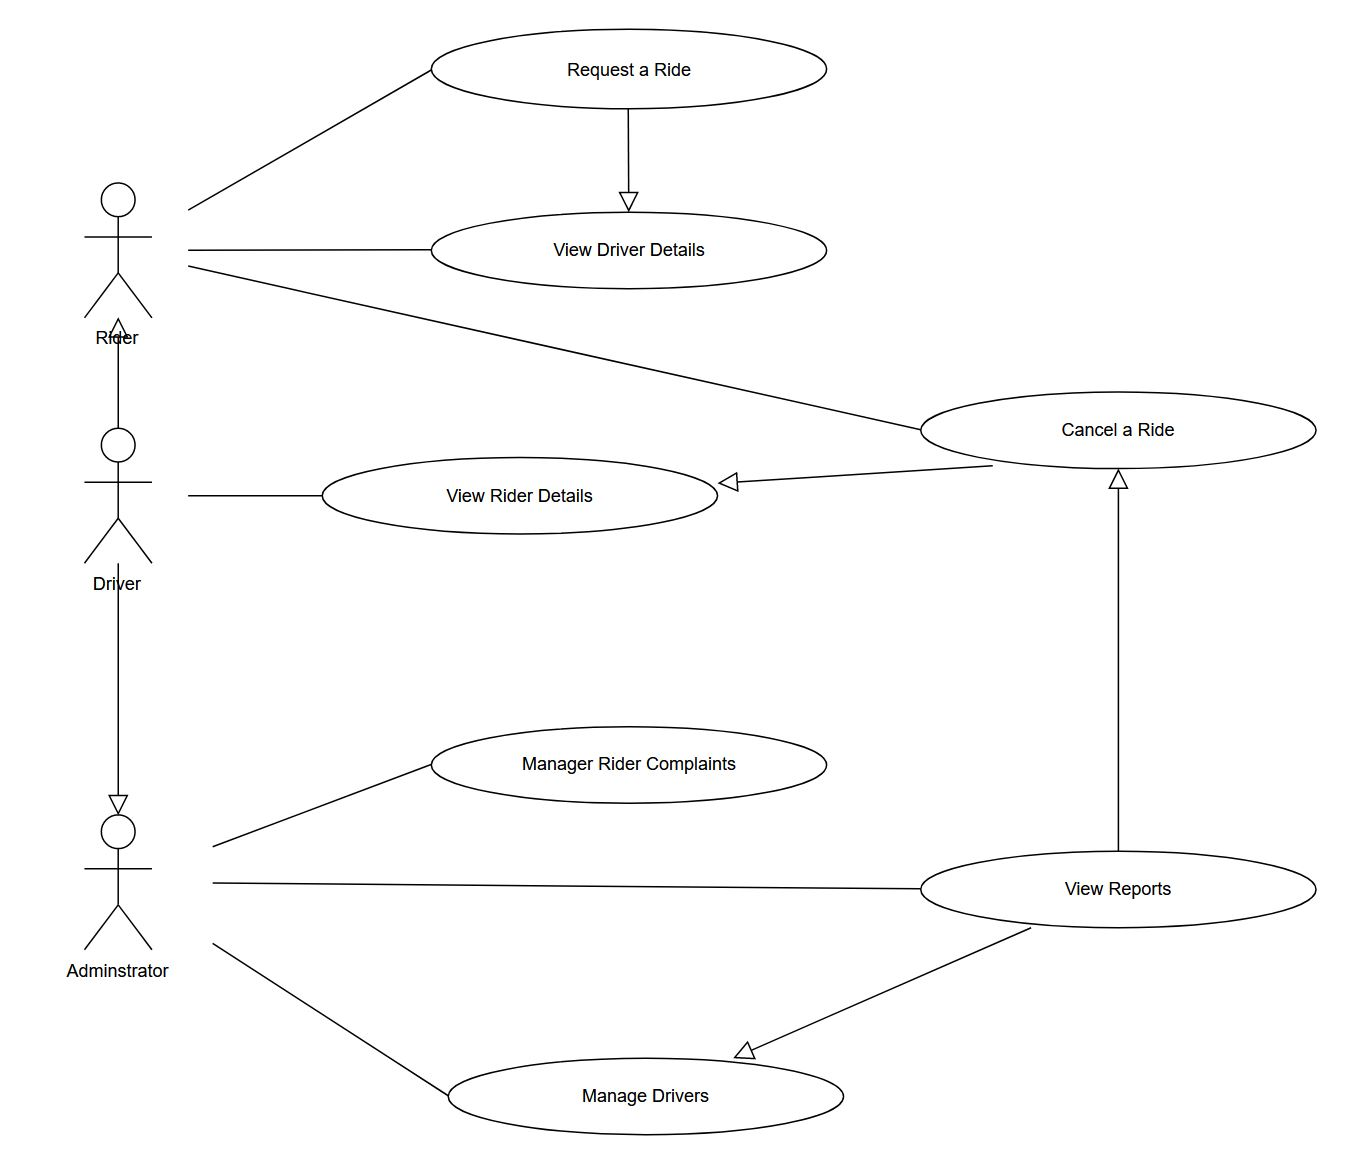actor: (76, 813, 166, 954), (78, 425, 163, 564), (78, 180, 155, 321)
association: (184, 260, 922, 431), (208, 937, 452, 1101), (184, 67, 429, 209), (209, 866, 923, 901), (211, 761, 427, 848), (185, 235, 432, 261), (186, 479, 324, 510)
generalization: (734, 924, 1032, 1061), (1102, 468, 1134, 849), (718, 461, 1000, 493), (102, 562, 134, 813), (608, 111, 645, 209), (106, 319, 132, 425)
text: (514, 744, 745, 783), (1047, 415, 1203, 452), (547, 232, 713, 264), (557, 52, 710, 87), (432, 479, 595, 510), (570, 1082, 729, 1112), (61, 957, 183, 984), (1057, 872, 1175, 900), (88, 571, 145, 593), (91, 327, 150, 344)
use_case: (431, 28, 829, 112), (429, 724, 827, 806), (447, 1057, 843, 1139), (321, 455, 717, 538), (919, 849, 1319, 931), (916, 391, 1316, 471), (429, 209, 831, 287)
